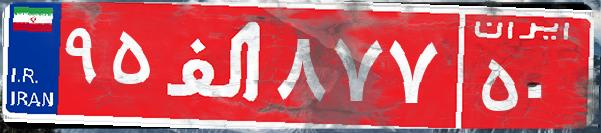0: (525, 38, 570, 115)
5: (475, 38, 525, 113), (110, 28, 158, 105)
7: (385, 28, 445, 110), (330, 28, 385, 110)
8: (273, 28, 330, 110)
9: (57, 26, 110, 107)
الف: (158, 15, 273, 115)
